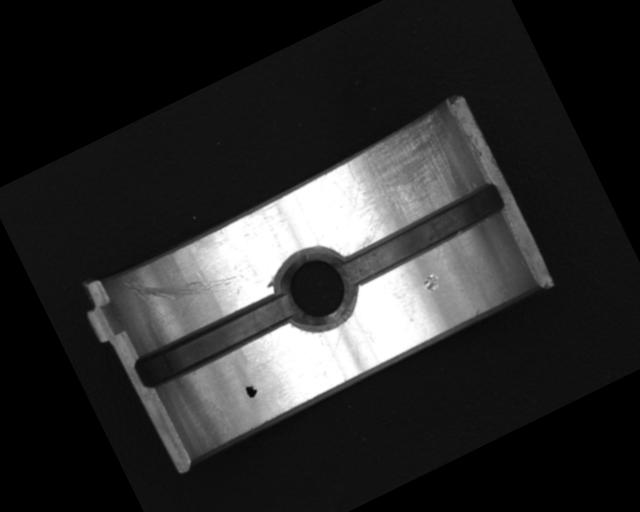blot: (242, 380, 259, 400)
bruise: (418, 269, 444, 295)
gap: (333, 176, 512, 290), (130, 287, 298, 394)
hole: (262, 236, 369, 342)
nick: (122, 232, 249, 336)
scratch: (320, 106, 480, 249)
